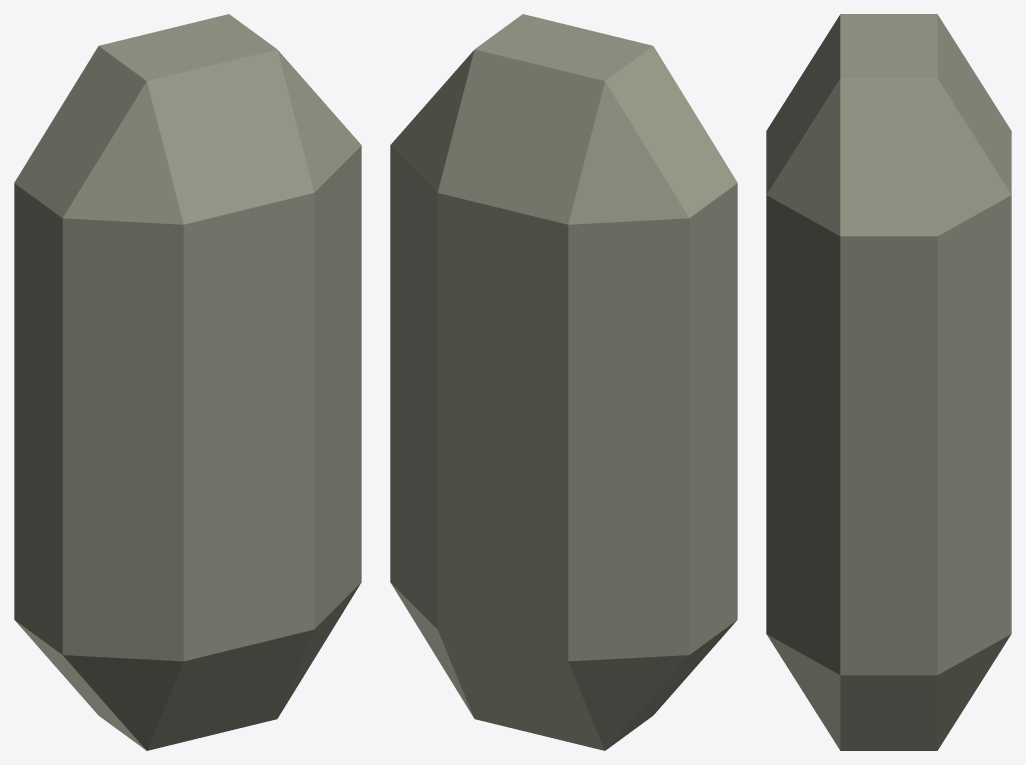
Rendered from ui-gem-blue.glb.
3 views of the same model, side by side, from view 1: azimuth 30°, elevation 25°; view 2: azimuth 150°, elevation 25°; view 3: azimuth 270°, elevation 25° (orthographic).
Parts seen in each view (by area): view 1: UI_Gem_Blue; view 2: UI_Gem_Blue; view 3: UI_Gem_Blue.
Boxes of the visible parts, x1,y1,x2,y2 form: UI_Gem_Blue: (14,14,361,750); UI_Gem_Blue: (390,14,737,750); UI_Gem_Blue: (766,14,1011,750).
Bounding box in the file's own units: 0.369 × 0.7892 × 0.2608.
Materials: 1 (1 with a texture image).
